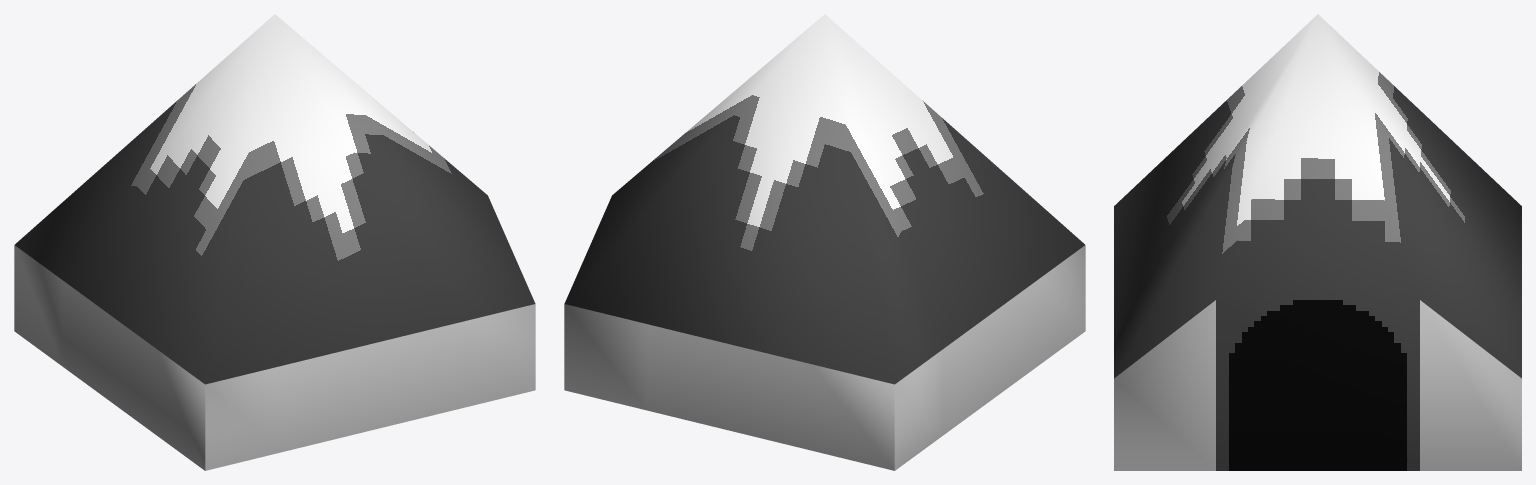
The model's file is Cave.fbx.
The picture shows the model from 3 angles, left to right: view 1: azimuth 30°, elevation 25°; view 2: azimuth 150°, elevation 25°; view 3: azimuth 270°, elevation 25°; orthographic projection. The views are drawn at different scales.
Visible parts, largest first — view 1: Cave; view 2: Cave; view 3: Cave.
Part boxes in pixels (left/top/right/bottom): Cave: left=14, top=14, right=535, bottom=470; Cave: left=564, top=14, right=1085, bottom=470; Cave: left=1114, top=14, right=1521, bottom=470.
Size of the model in its own units: 100 by 100 by 100.
